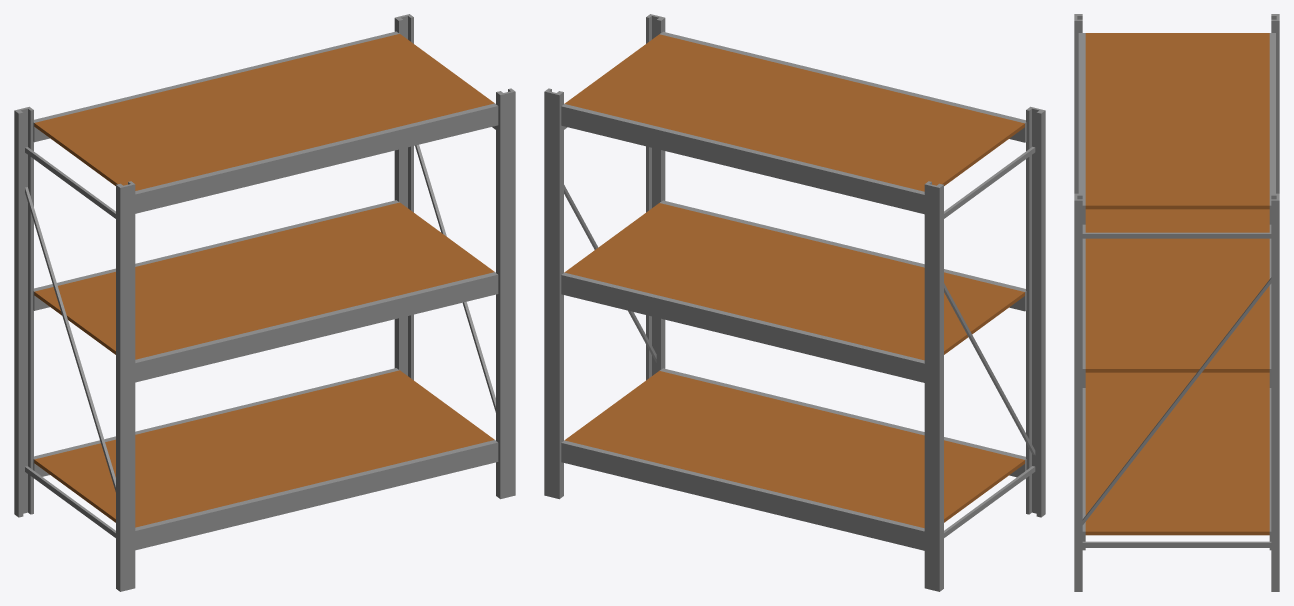
The model's file is shelf_lp.fbx.
The picture shows the model from 3 angles, left to right: view 1: azimuth 30°, elevation 25°; view 2: azimuth 150°, elevation 25°; view 3: azimuth 270°, elevation 25°; orthographic projection. The views are drawn at different scales.
Parts seen in each view (by area): view 1: shelves_low, legs_low, supports_low; view 2: shelves_low, legs_low, supports_low; view 3: shelves_low, legs_low, supports_low.
Boxes of the visible parts, x1,y1,x2,y2 form: shelves_low: [33, 31, 498, 550]; legs_low: [14, 14, 515, 591]; supports_low: [25, 126, 495, 537]; shelves_low: [561, 31, 1026, 550]; legs_low: [544, 14, 1045, 591]; supports_low: [564, 126, 1035, 537]; shelves_low: [1078, 33, 1275, 550]; legs_low: [1074, 14, 1279, 591]; supports_low: [1082, 232, 1271, 547].
Bounding box in the file's own units: 60.5 × 59.1 × 28.1.
